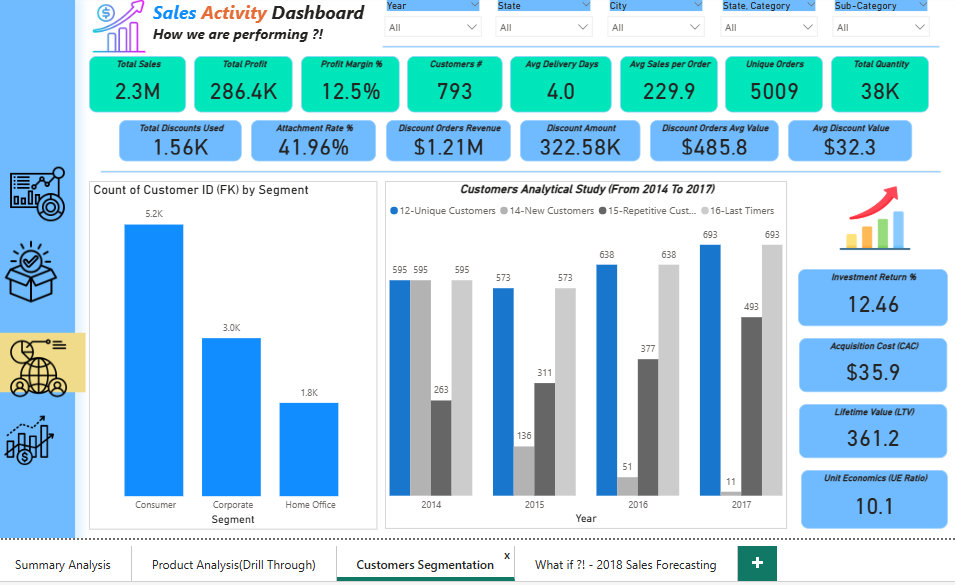

Layout of this report page (visuals, bound fields, positions):
{"tool":"powerbi","page":{"name":"Customer Segmentation Analysis","canvas":[1280,720],"ordinal":2},"visuals":[{"type":"shape","box":[0,0,105.3,720],"z":0},{"type":"clusteredBarChart","title":"Customer Segmentation (RFM Score)","fields":{"Category":["Dim - Customer Profiling (RFM Segmentation).Segment"],"Y":["CountNonNull(Dim - Customer Profiling (RFM Segmentation).Customer Key (PK))"]},"box":[124.2,219.6,533.2,487.8],"z":1000},{"type":"clusteredColumnChart","title":"Customers Analytical Study (From 2022 To 2025)","fields":{"Category":["_Dim - Calendar._Dim Calendar Hierarchy.Year","_Dim - Calendar._Dim Calendar Hierarchy.Quarter","_Dim - Calendar._Dim Calendar Hierarchy.Month No.","_Dim - Calendar._Dim Calendar Hierarchy.Mnonth Name","_Dim - Calendar._Dim Calendar Hierarchy.Week No. Monthly"],"Y":["_Key Measures (RFM).Unique Customers","_Key Measures (RFM).New Customers","_Key Measures (RFM).Last Timers","_Key Measures (RFM).Repetitive Customers"]},"box":[674.1,219.6,587.7,487.8],"z":2000},{"type":"slicer","fields":{"Values":["Dim - Country.Country"]},"box":[660.5,-0.3,154,62.5],"z":3000},{"type":"image","box":[2.4,255.7,93.7,92.1],"z":4000},{"type":"card","title":"Total Sales","fields":{"Values":["_Key Measures.01. Total Sales"]},"box":[127.5,100.6,135.1,79.8],"z":5000},{"type":"image","box":[4.8,122.3,88.9,84.2],"z":6000},{"type":"slicer","fields":{"Values":["_Dim - Calendar._Dim Calendar Hierarchy.Year"]},"box":[507.8,-0.3,153.7,62.5],"z":7000},{"type":"image","box":[4.8,562.2,88.9,79.4],"z":8000},{"type":"image","box":[0,407.8,115,97],"z":8750,"group":"g1"},{"type":"group","id":"g1","title":"Group 5","box":[0,407.8,115,97],"z":9000},{"type":"image","box":[10.5,410.2,85.2,88.2],"z":9250,"group":"g1"},{"type":"slicer","fields":{"Values":["Dim - City.City"]},"box":[814.5,-0.3,154,61.3],"z":10000},{"type":"slicer","fields":{"Values":["Dim - Sub-Category.Sub-Category"]},"box":[1122.5,-0.3,154,61.3],"z":11000},{"type":"textbox","box":[203.4,2.5,304.9,84.2],"z":12000},{"type":"slicer","fields":{"Values":["Dim - Category.Category"]},"box":[968.5,-0.3,154,61.3],"z":13000},{"type":"image","box":[122.6,2.5,80.9,86],"z":14000},{"type":"card","title":"Total Cost","fields":{"Values":["_Key Measures.02. Cost of Goods Sold (COGS)"]},"box":[268.8,100.6,138.2,80.3],"z":15000},{"type":"shape","box":[124.6,195.7,1138.3,13.4],"z":16000},{"type":"shape","box":[507,74.7,773,15],"z":17000},{"type":"card","title":"Net Profit","fields":{"Values":["_Key Measures.03. Net Profit Value"]},"box":[413,100.6,136.6,80.3],"z":18000},{"type":"card","title":"Total Quantity","fields":{"Values":["_Key Measures.10 Total Quantity"]},"box":[1126.8,100.6,136.6,80.3],"z":19000},{"type":"card","title":"Transaction AVG.","fields":{"Values":["_Key Measures.09. Transaction Avg"]},"box":[985.6,100.6,135.1,80.3],"z":20000},{"type":"card","title":"Gross Margin %","fields":{"Values":["_Key Measures.04. Gross Margin % (GM %)"]},"box":[555.8,100.6,133.5,80.3],"z":21000},{"type":"card","title":"Customer #","fields":{"Values":["_Key Measures.06. Unique Customers"]},"box":[695.5,100.6,141.2,80.3],"z":22000},{"type":"card","title":"Unique Orders","fields":{"Values":["_Key Measures.08. Unique Orders"]},"box":[842.9,100.6,136.6,80.3],"z":23000}]}

Visuals, with their boxes on the page's 1280x720 design canvas (x1, y1, x2, y2). These are canvas units, not pixel positions in the 955x585 screenshot, which may show the page scaled, cropped or inside an application window:
shape: box=[0, 0, 105, 720]
"Customer Segmentation (RFM Score)" clusteredBarChart: box=[124, 220, 657, 707]
"Customers Analytical Study (From 2022 To 2025)" clusteredColumnChart: box=[674, 220, 1262, 707]
slicer - Dim - Country.Country: box=[660, 0, 814, 62]
image: box=[2, 256, 96, 348]
"Total Sales" card: box=[128, 101, 263, 180]
image: box=[5, 122, 94, 206]
slicer - _Dim - Calendar._Dim Calendar Hierarchy.Year: box=[508, 0, 662, 62]
image: box=[5, 562, 94, 642]
image: box=[0, 408, 115, 505]
"Group 5" group: box=[0, 408, 115, 505]
image: box=[10, 410, 96, 498]
slicer - Dim - City.City: box=[814, 0, 968, 61]
slicer - Dim - Sub-Category.Sub-Category: box=[1122, 0, 1276, 61]
textbox: box=[203, 2, 508, 87]
slicer - Dim - Category.Category: box=[968, 0, 1122, 61]
image: box=[123, 2, 204, 88]
"Total Cost" card: box=[269, 101, 407, 181]
shape: box=[125, 196, 1263, 209]
shape: box=[507, 75, 1280, 90]
"Net Profit" card: box=[413, 101, 550, 181]
"Total Quantity" card: box=[1127, 101, 1263, 181]
"Transaction AVG." card: box=[986, 101, 1121, 181]
"Gross Margin %" card: box=[556, 101, 689, 181]
"Customer #" card: box=[696, 101, 837, 181]
"Unique Orders" card: box=[843, 101, 980, 181]
